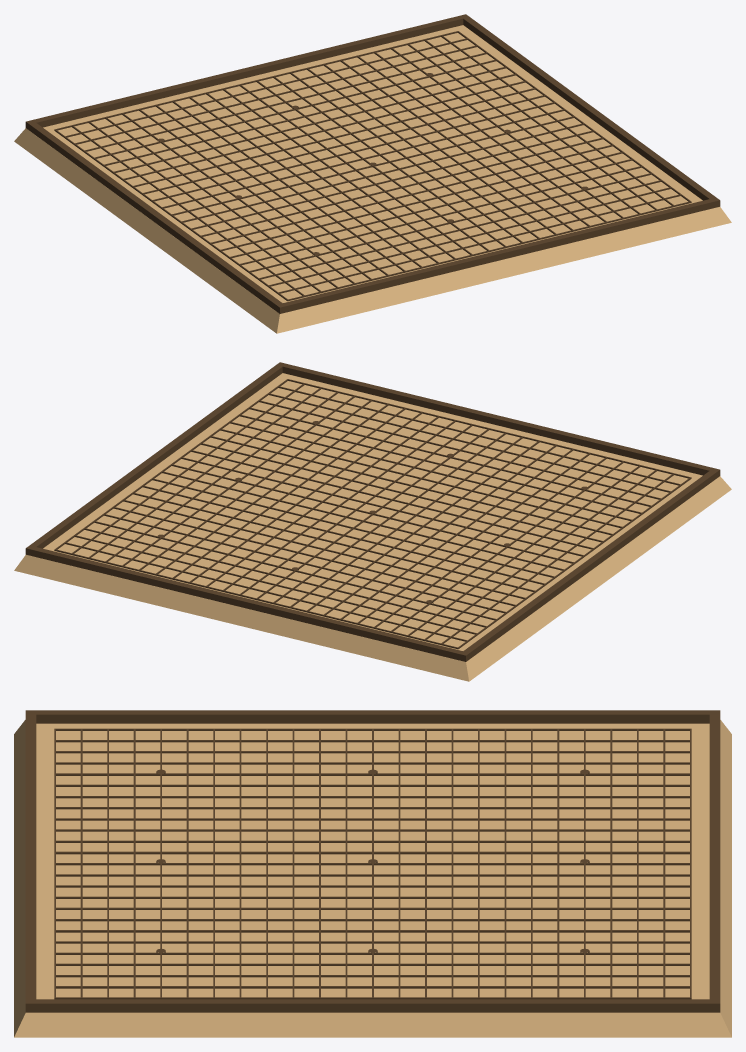
File: gomoku_board.glb
3 renders of one model, top to bottom at view 1: azimuth 30°, elevation 25°; view 2: azimuth 150°, elevation 25°; view 3: azimuth 270°, elevation 25°, orthographic. The views are drawn at different scales.
Parts seen in each view (by area): view 1: BoardSlab, GridLines, BoardRim; view 2: BoardSlab, GridLines, BoardRim; view 3: BoardSlab, GridLines, BoardRim.
Part boxes in pixels (<box>): BoardSlab: <box>14,25,731,333</box>; GridLines: <box>54,31,691,301</box>; BoardRim: <box>25,14,720,313</box>; BoardSlab: <box>14,373,731,681</box>; GridLines: <box>54,379,691,649</box>; BoardRim: <box>25,362,720,661</box>; BoardSlab: <box>14,720,731,1037</box>; GridLines: <box>54,728,691,999</box>; BoardRim: <box>25,710,720,1012</box>.
Size of the model in its own units: 2.6 by 0.1155 by 2.6.
